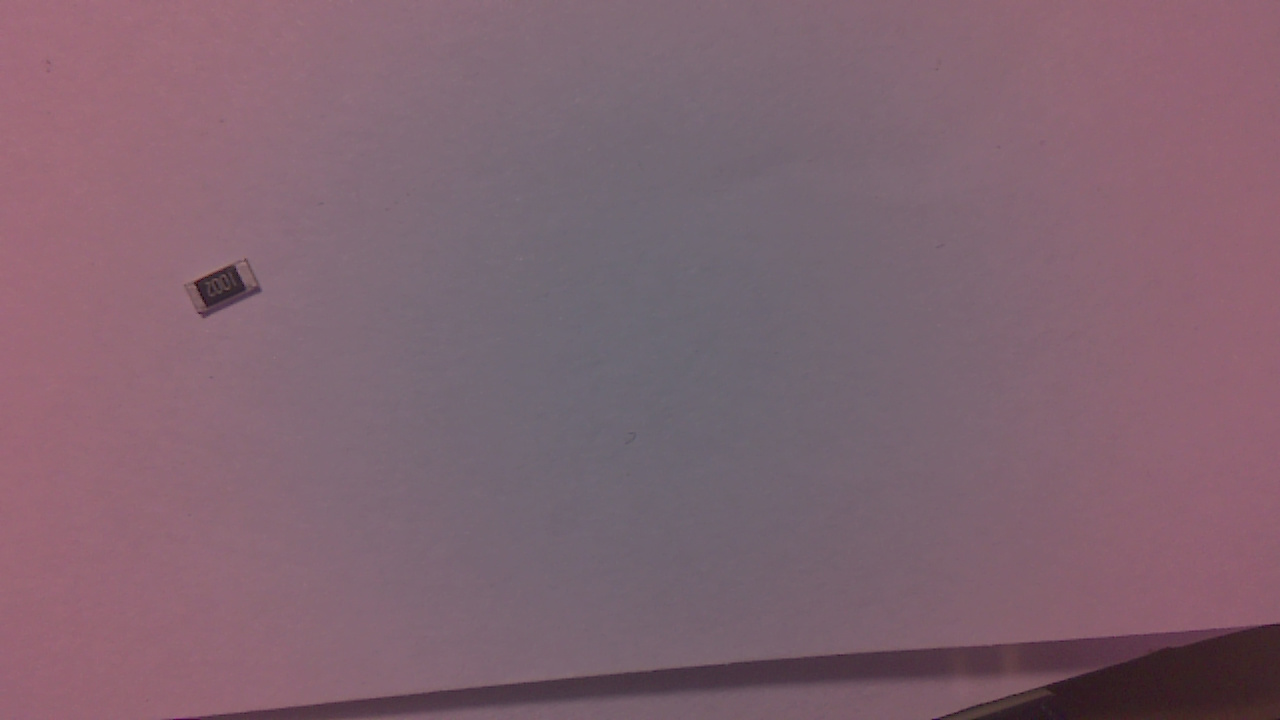Resistor: (193, 261, 266, 324)
